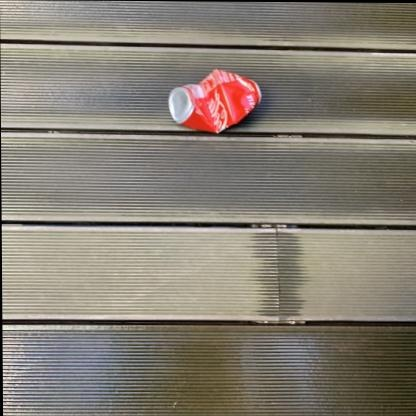trash: (168, 69, 260, 132)
